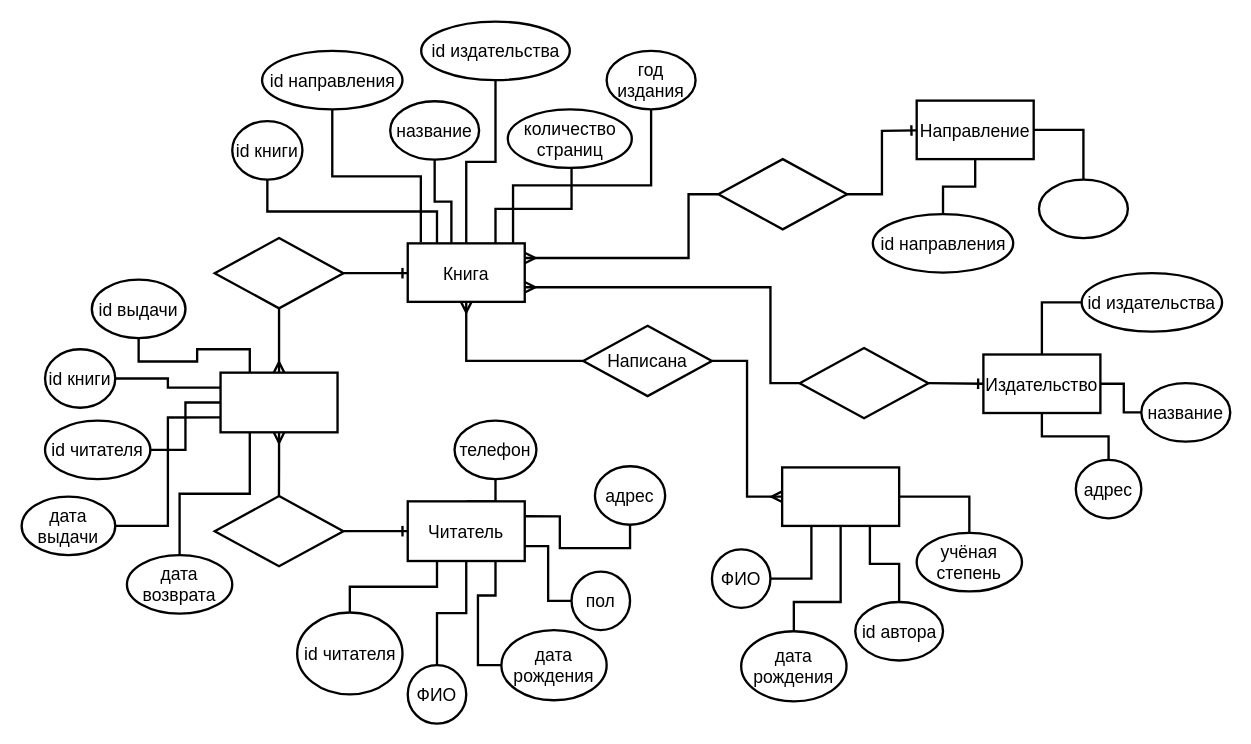
This 1251x744 diagram has some shape labels left out. The shapes that lost their labels are listed below. From the top down, each one's box as (x1, y1, x2, y2) in pixels, then its label:
(717, 157, 848, 230): Относится к
(1037, 178, 1128, 239): описание
(213, 236, 344, 309): Выдаёт
(219, 371, 338, 433): Выдача книг
(798, 346, 929, 419): Издается в
(780, 466, 900, 526): Автор
(213, 494, 344, 567): Принимает
